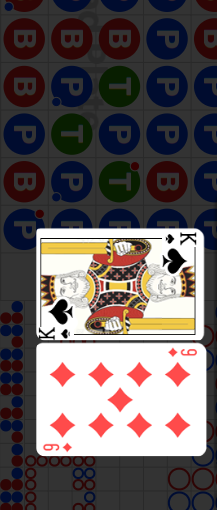9D: (167, 347, 198, 358)
KS: (162, 230, 198, 246)
